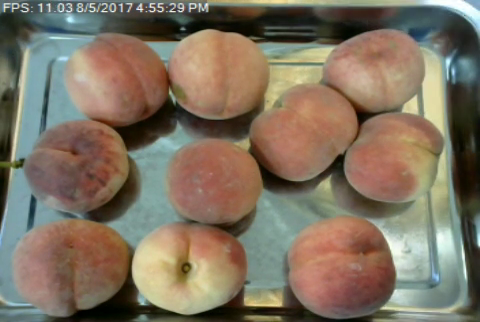Peach: (12, 217, 129, 316), (287, 215, 397, 319), (248, 82, 360, 181), (133, 222, 247, 316), (24, 118, 132, 212), (65, 32, 169, 126), (319, 26, 427, 115), (342, 112, 446, 203), (170, 29, 273, 120), (164, 137, 261, 226)
